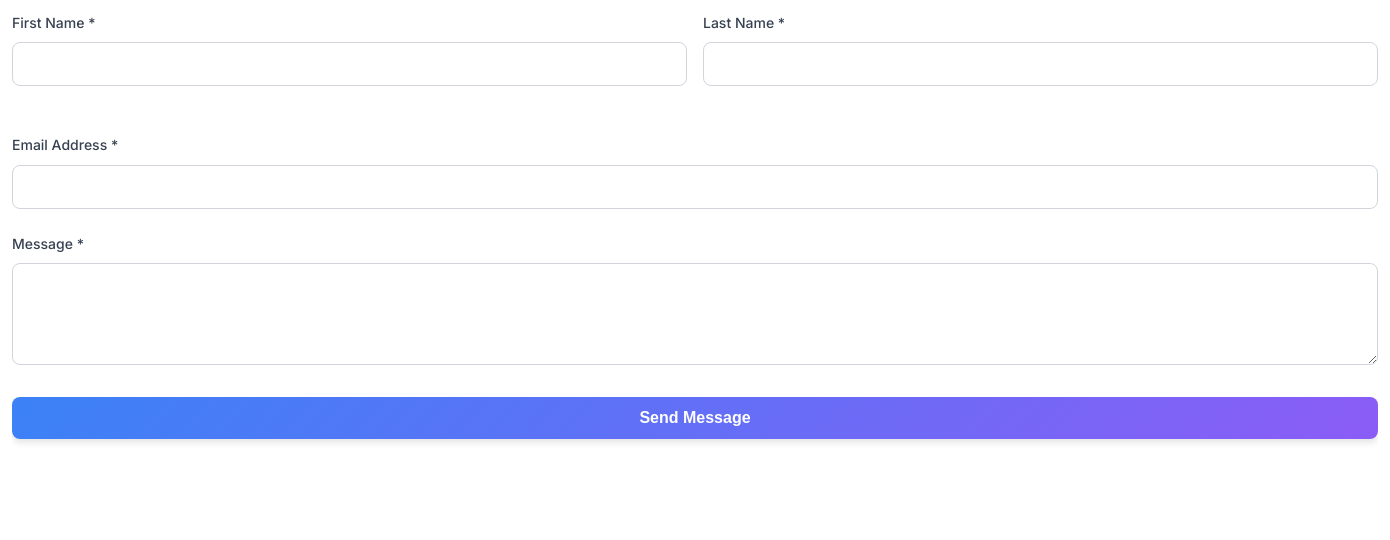
Scenario: ContactForm Component › validates email format
Type "invalid-email@y" into the field labelled "Email Address *".
click(695, 187); type("invalid-email@y")  # box [12,165,1378,209]
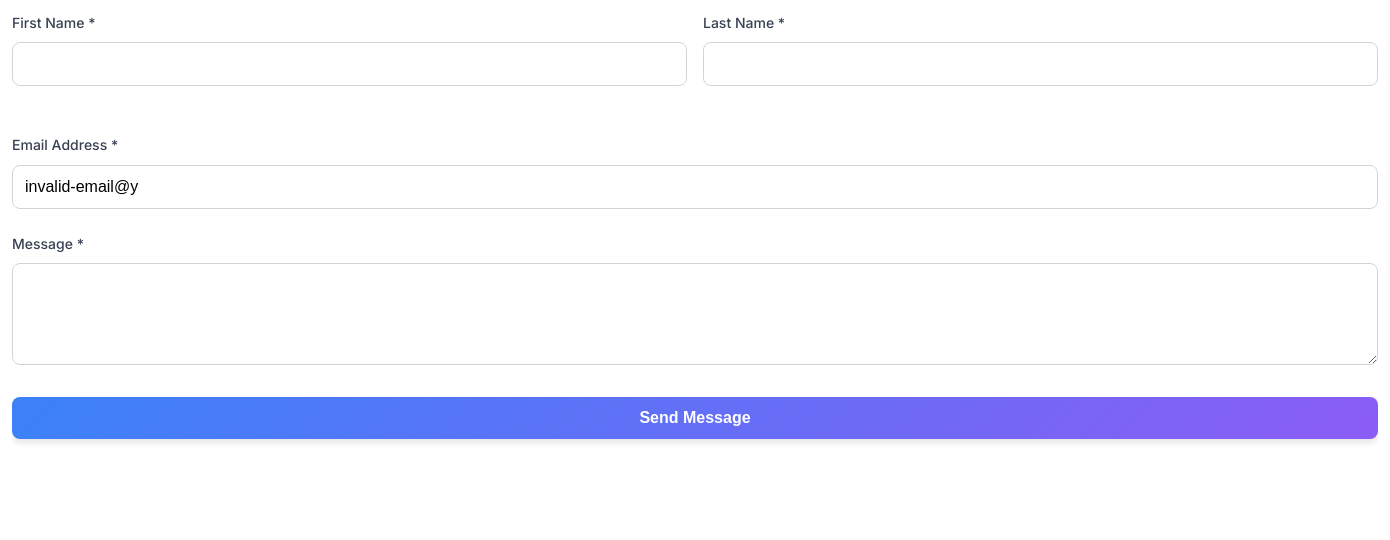
Click the button "Send Message".
click(695, 418)  # box [12,397,1378,439]
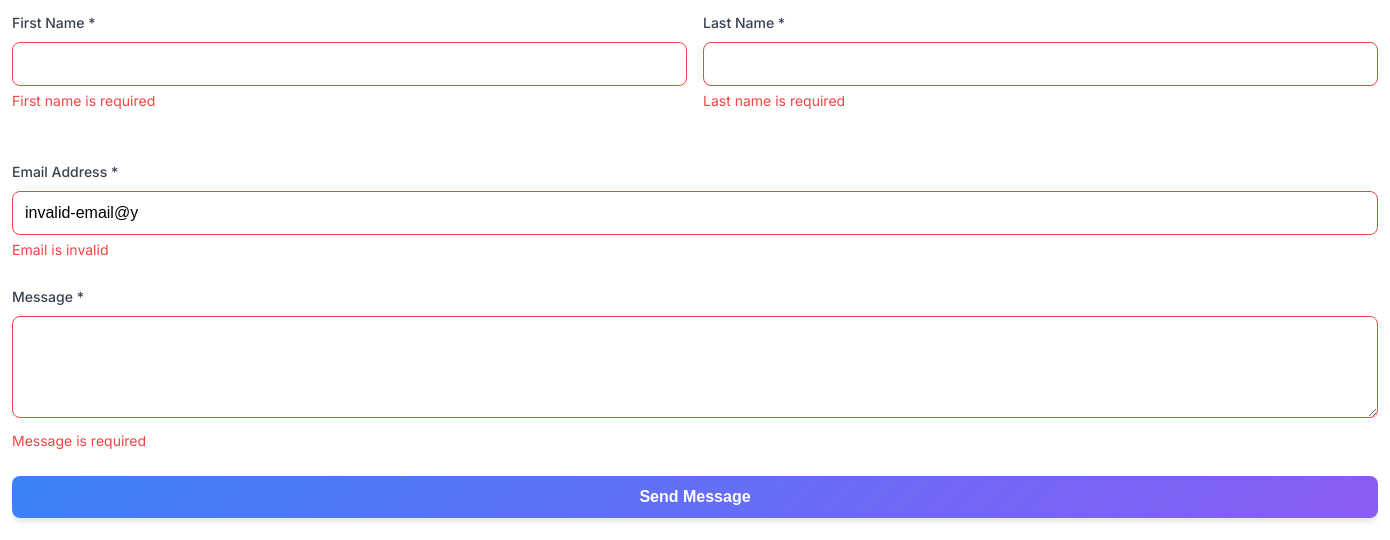
Now the text "Email is invalid" is shown, box [12,241,108,258]
